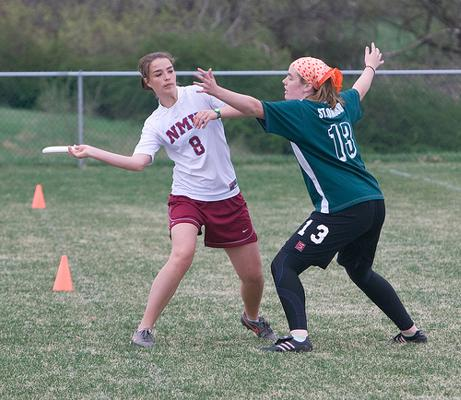person: (68, 53, 282, 349)
